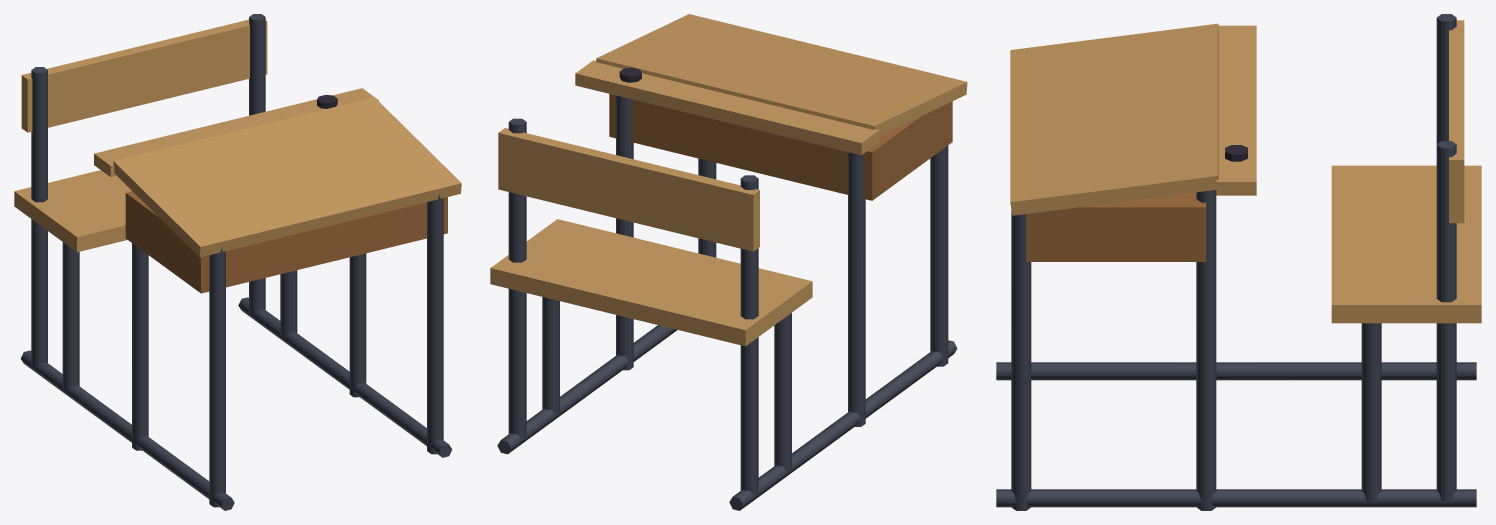
File: school-desk.glb
3 views of the same model, side by side, from view 1: azimuth 30°, elevation 25°; view 2: azimuth 150°, elevation 25°; view 3: azimuth 270°, elevation 25° (orthographic). The views are drawn at different scales.
Parts seen in each view (by area): view 1: Desk lid, Desk frame, Desk backrest, Desk box, Desk seat, Desk groove strip; view 2: Desk frame, Desk lid, Desk seat, Desk backrest, Desk box, Desk groove strip; view 3: Desk frame, Desk lid, Desk seat, Desk box, Desk groove strip, Desk backrest.
Boxes of the visible parts, box(x1,y1,x2,y2) form: Desk lid: box(113, 97, 461, 257); Desk frame: box(20, 14, 452, 510); Desk backrest: box(21, 19, 267, 132); Desk box: box(125, 191, 447, 293); Desk seat: box(14, 170, 131, 252); Desk groove strip: box(94, 88, 378, 176); Desk frame: box(497, 95, 957, 510); Desk lid: box(596, 14, 967, 135); Desk seat: box(490, 219, 812, 346); Desk backrest: box(498, 128, 759, 251); Desk box: box(609, 94, 952, 200); Desk groove strip: box(575, 60, 879, 155); Desk frame: box(996, 14, 1476, 510); Desk lid: box(1010, 23, 1218, 215); Desk seat: box(1331, 165, 1481, 323); Desk box: box(1026, 192, 1206, 261); Desk groove strip: box(1216, 25, 1256, 195); Desk backrest: box(1449, 20, 1464, 223).
Bounding box in the file's own units: 0.74 × 0.8 × 0.97.
